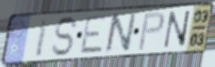E: (78, 14, 110, 56)
I: (33, 17, 51, 60)
N: (104, 10, 139, 56), (163, 9, 192, 50)
P: (136, 10, 166, 52)
S: (50, 15, 81, 59)
